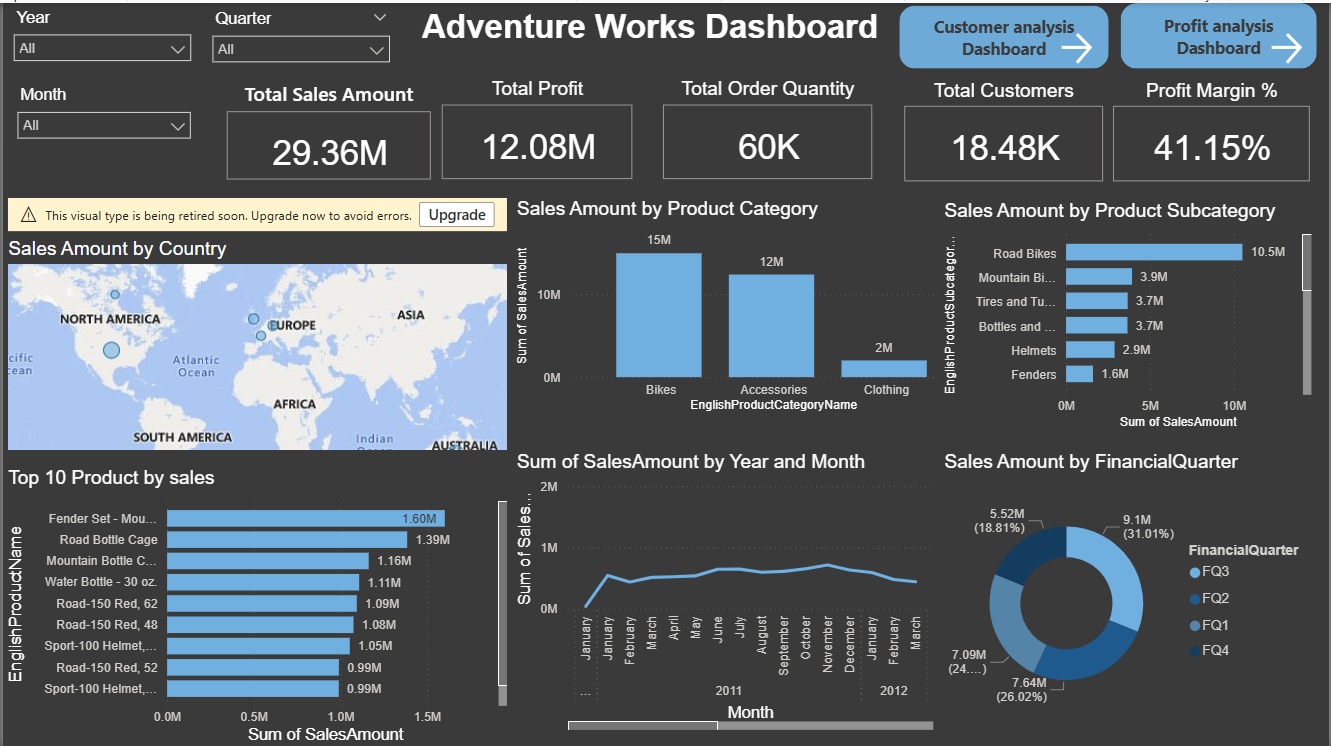

Layout of this report page (visuals, bound fields, positions):
{"tool":"powerbi","page":{"name":"Adventure work  Sales Dashboard","canvas":[1280,720],"ordinal":0},"visuals":[{"type":"textbox","box":[399.2,0,464,72.5],"z":0},{"type":"cardVisual","title":"Total Sales Amount","fields":{"Data":["Sum(Sales.SalesAmount)"]},"box":[210.7,74.3,207.1,101.1],"z":1000},{"type":"cardVisual","title":"Total Profit","fields":{"Data":["Sum(Sales.Profit)"]},"box":[418.3,72.5,194.5,103],"z":2000},{"type":"cardVisual","title":"Total Order Quantity","fields":{"Data":["Sum(Sales.OrderQuantity)"]},"box":[631.9,72.5,212.3,103],"z":3000},{"type":"cardVisual","title":"Total Customers","fields":{"Data":["Count(Sales.CustomerKey)"]},"box":[864.5,73.7,202.1,104.3],"z":4000},{"type":"cardVisual","title":"Profit Margin %","fields":{"Data":["Sales.Profit Margin %"]},"box":[1066.7,73.7,200.9,104.3],"z":5000},{"type":"columnChart","title":" Sales Amount by Product Category","fields":{"Category":["DimProdCategory.EnglishProductCategoryName"],"Y":["Sum(Sales.SalesAmount)"]},"box":[491.5,188.5,453.8,211.7],"z":6000},{"type":"barChart","title":"Sales Amount by Product Subcategory ","fields":{"Y":["Sum(Sales.SalesAmount)"],"Category":["DimProdSubCategory.EnglishProductSubcategoryName"]},"box":[903.8,188.8,364.2,226.6],"z":7000},{"type":"clusteredBarChart","title":"Top 10 Product by sales","fields":{"Category":["DimProduct.EnglishProductName"],"Y":["Sum(Sales.SalesAmount)"]},"box":[0,448,491.5,272.6],"z":8000},{"type":"map","title":" Sales Amount by Country","fields":{"Category":["DimSalesTerritory.SalesTerritoryCountry"],"Size":["Sum(Sales.SalesAmount)"]},"box":[0,188.5,491.5,242.1],"z":9000},{"type":"lineChart","fields":{"Category":["Sales.Year","Sales.DueDate.Variation.Date Hierarchy.Month"],"Y":["Sum(Sales.SalesAmount)"]},"box":[491.4,431.9,412,274.7],"z":10000},{"type":"slicer","fields":{"Values":["Sales.YearMonth.Variation.Date Hierarchy.Year"]},"box":[0,0,191.2,71.9],"z":11000},{"type":"slicer","fields":{"Values":["Sales.OrderDate.Variation.Date Hierarchy.Quarter"]},"box":[191.2,1.2,191.2,71.9],"z":12000},{"type":"slicer","fields":{"Values":["Sales.OrderDate.Variation.Date Hierarchy.Month"]},"box":[3.7,74.3,187.6,60.9],"z":13000},{"type":"tableEx","fields":{"Values":["Sales.ProductName","Sum(Sales.SalesAmount)"]},"box":[903.4,431.9,364.7,274.7],"z":14000},{"type":"shape","box":[864.5,2.5,202.1,61],"z":14001},{"type":"actionButton","box":[1015.8,24.2,50.9,39.4],"z":14002},{"type":"shape","box":[1078.1,0,189.4,63.6],"z":14003},{"type":"actionButton","box":[1218,24.2,50.9,39.4],"z":14004}]}

Visuals, with their boxes in screenshot pixels (x1, y1, x2, y2), scaled from the page's 1280x720 canvas onto the 1331x746 screenshot:
textbox: bbox=(415, 0, 898, 75)
"Total Sales Amount" cardVisual: bbox=(219, 77, 434, 182)
"Total Profit" cardVisual: bbox=(435, 75, 637, 182)
"Total Order Quantity" cardVisual: bbox=(657, 75, 878, 182)
"Total Customers" cardVisual: bbox=(899, 76, 1109, 184)
"Profit Margin %" cardVisual: bbox=(1109, 76, 1318, 184)
" Sales Amount by Product Category" columnChart: bbox=(511, 195, 983, 415)
"Sales Amount by Product Subcategory " barChart: bbox=(940, 196, 1319, 430)
"Top 10 Product by sales" clusteredBarChart: bbox=(0, 464, 511, 745)
" Sales Amount by Country" map: bbox=(0, 195, 511, 446)
lineChart - Sales.Year x Sales.DueDate.Variation.Date Hierarchy.Month: bbox=(511, 447, 939, 732)
slicer - Sales.YearMonth.Variation.Date Hierarchy.Year: bbox=(0, 0, 199, 74)
slicer - Sales.OrderDate.Variation.Date Hierarchy.Quarter: bbox=(199, 1, 398, 76)
slicer - Sales.OrderDate.Variation.Date Hierarchy.Month: bbox=(4, 77, 199, 140)
tableEx - Sales.ProductName x Sum(Sales.SalesAmount): bbox=(939, 447, 1319, 732)
shape: bbox=(899, 3, 1109, 66)
actionButton: bbox=(1056, 25, 1109, 66)
shape: bbox=(1121, 0, 1318, 66)
actionButton: bbox=(1267, 25, 1319, 66)
